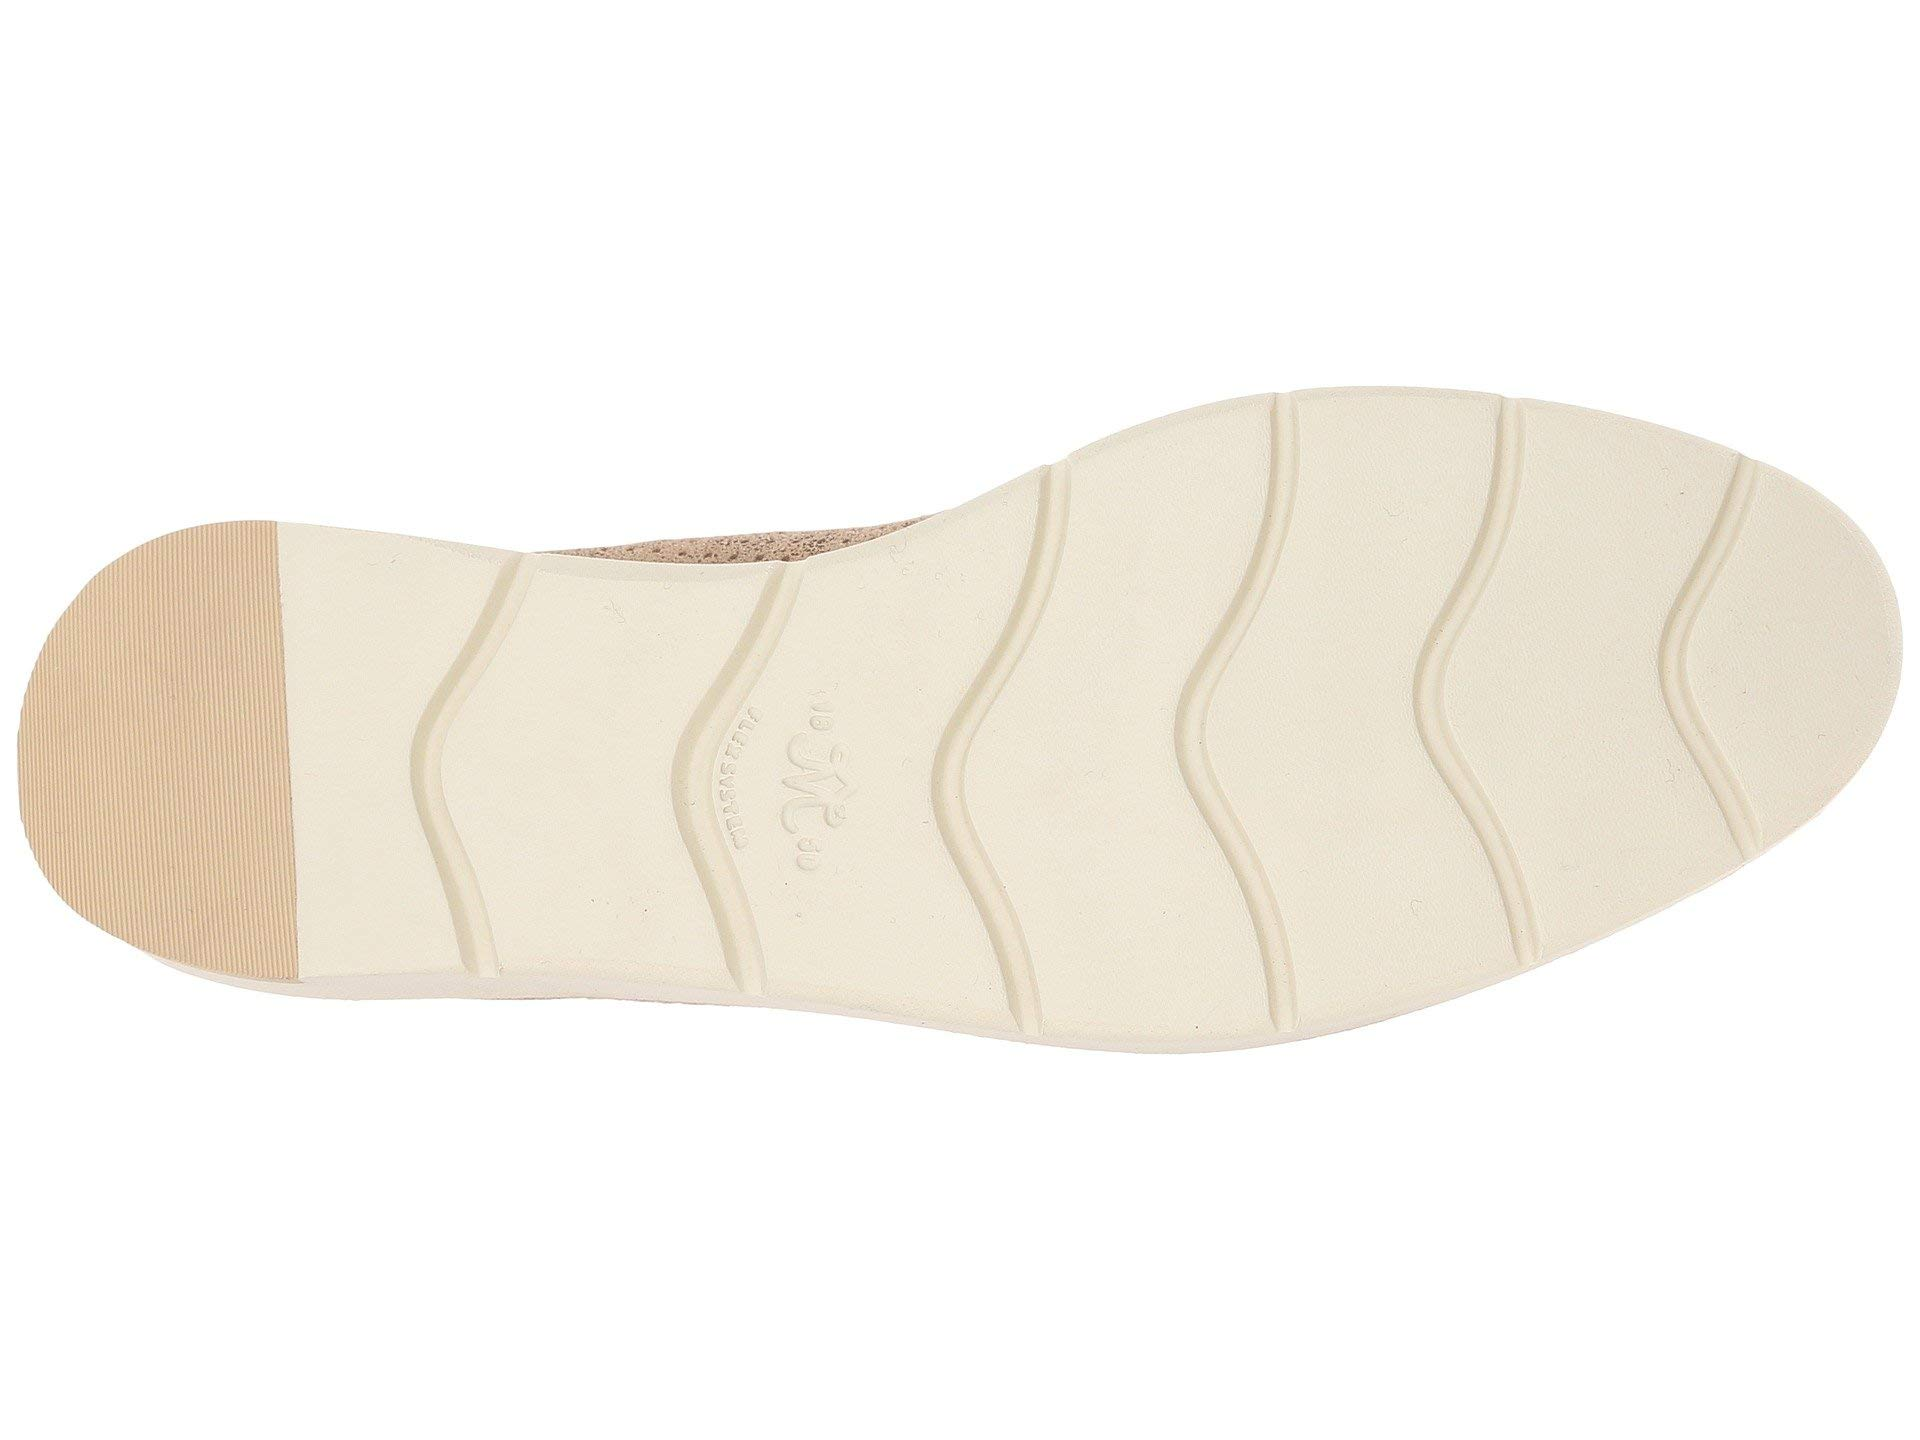chevron: (547, 632, 1042, 948)
text: (547, 632, 1042, 948)
